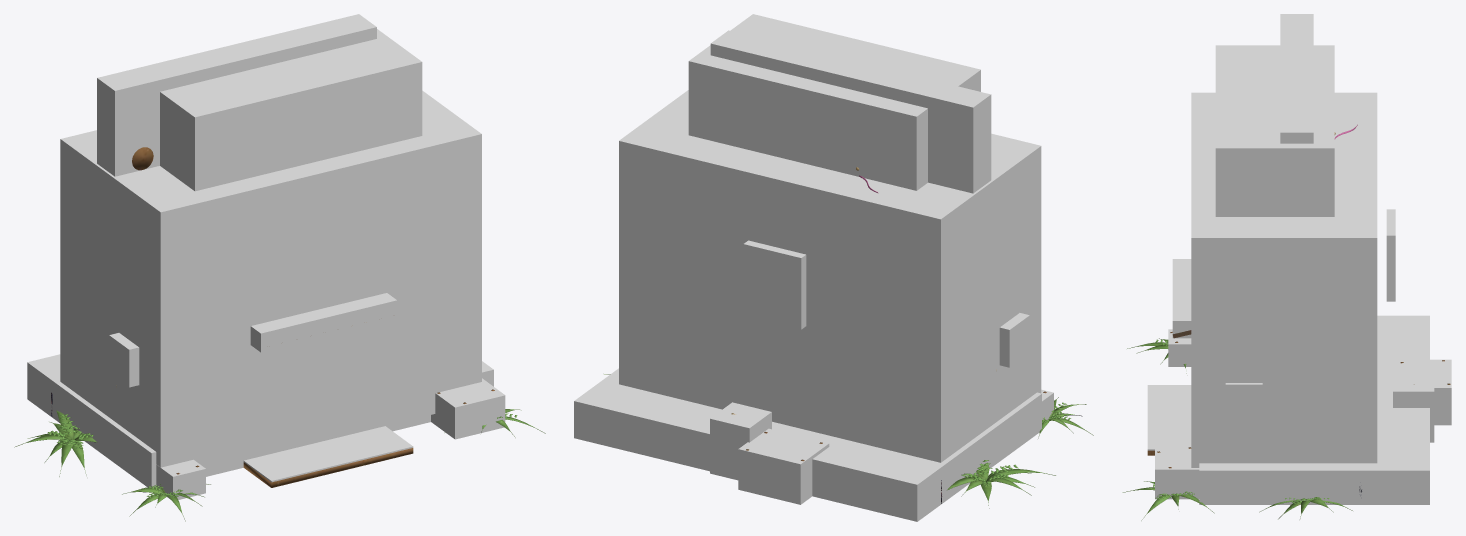
File: junk_repair.glb
3 renders of one model, left to right at view 1: azimuth 30°, elevation 25°; view 2: azimuth 150°, elevation 25°; view 3: azimuth 270°, elevation 25°, orthographic. The views are drawn at different scales.
Parts seen in each view (by area): view 1: col_bld_junk_repair_pipes, col_bld_junk_repair_roofbits, col_bld_junk_repair_crane, col_bld_junk_repair_junk, col_bld_junk_repair_hood, col_bld_junk_repair_stoop, junk_repair_body_a, col_bld_PROP_crate_m_i.007, col_bld_PROP_crate_s_i.009, col_bld_WINDOW_round_sill_i.010; view 2: col_bld_junk_repair_pipes, col_bld_junk_repair_roofbits, col_bld_junk_repair_junk, col_bld_junk_repair_crane, col_bld_SIGN_banner_crown_i.002, col_bld_PROP_crate_l_i.004, col_bld_PROP_barrel_i.006, junk_repair_body_a, col_bld_WINDOW_round_sill_i.010; view 3: col_bld_junk_repair_pipes, col_bld_junk_repair_roofbits, col_bld_junk_repair_junk, col_bld_junk_repair_crane, col_bld_junk_repair_stoop, col_bld_PROP_crate_m_i.007, col_bld_PROP_crate_l_i.004, col_bld_PROP_barrel_i.006, col_bld_junk_repair_hood, col_bld_WINDOW_round_sill_i.009, junk_repair_body_b, col_bld_SIGN_banner_crown_i.002 (+1 smaller).
Boxes of the visible parts, x1,y1,x2,y2 form: col_bld_junk_repair_pipes: (60, 90, 481, 469); col_bld_junk_repair_roofbits: (160, 29, 422, 191); col_bld_junk_repair_crane: (97, 14, 376, 176); col_bld_junk_repair_junk: (27, 354, 493, 487); col_bld_junk_repair_hood: (250, 293, 397, 352); col_bld_junk_repair_stoop: (243, 426, 413, 482); junk_repair_body_a: (14, 147, 413, 521); col_bld_PROP_crate_m_i.007: (431, 378, 505, 439); col_bld_PROP_crate_s_i.009: (156, 459, 205, 499); col_bld_WINDOW_round_sill_i.010: (109, 333, 139, 387); col_bld_junk_repair_pipes: (619, 90, 1041, 462); col_bld_junk_repair_roofbits: (688, 14, 980, 190); col_bld_junk_repair_junk: (574, 368, 1041, 521); col_bld_junk_repair_crane: (710, 30, 991, 193); col_bld_SIGN_banner_crown_i.002: (743, 240, 806, 329); col_bld_PROP_crate_l_i.004: (738, 428, 829, 504); col_bld_PROP_barrel_i.006: (710, 402, 771, 480); junk_repair_body_a: (746, 167, 1093, 508); col_bld_WINDOW_round_sill_i.010: (999, 313, 1029, 367); col_bld_junk_repair_pipes: (1191, 92, 1377, 467); col_bld_junk_repair_roofbits: (1215, 45, 1334, 216); col_bld_junk_repair_junk: (1199, 315, 1429, 504); col_bld_junk_repair_crane: (1280, 14, 1313, 143); col_bld_junk_repair_stoop: (1147, 385, 1191, 450); col_bld_PROP_crate_m_i.007: (1155, 447, 1199, 499); col_bld_PROP_crate_l_i.004: (1398, 359, 1451, 425); col_bld_PROP_barrel_i.006: (1393, 374, 1434, 442); col_bld_junk_repair_hood: (1172, 259, 1191, 338); col_bld_WINDOW_round_sill_i.009: (1225, 383, 1262, 419); junk_repair_body_b: (1122, 330, 1414, 520); col_bld_SIGN_banner_crown_i.002: (1386, 209, 1395, 301).
Bounding box in the file's own units: 8.2 × 6.8 × 5.64.
33 materials, 10 textured.
